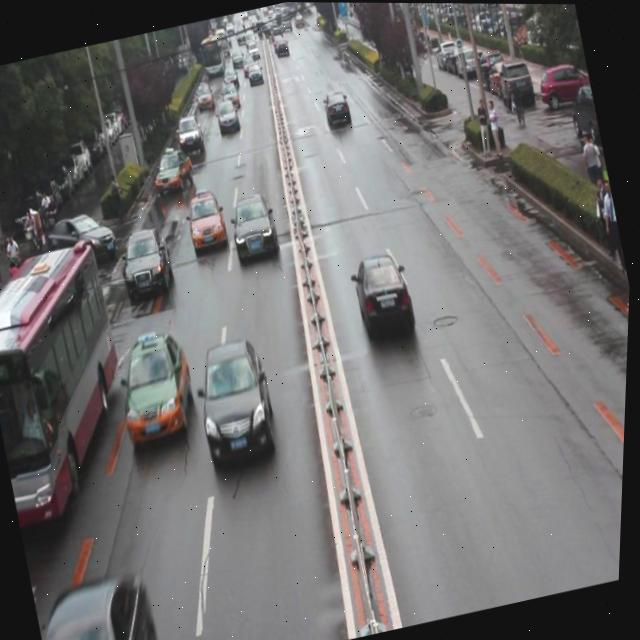car: (187, 334, 287, 466), (111, 324, 207, 445), (35, 564, 176, 640), (345, 245, 422, 344), (115, 220, 181, 308), (45, 204, 123, 272), (225, 186, 285, 267), (181, 184, 232, 252), (150, 142, 198, 196), (173, 109, 208, 157), (320, 85, 354, 131), (215, 101, 242, 133)
van: (0, 235, 157, 533)
